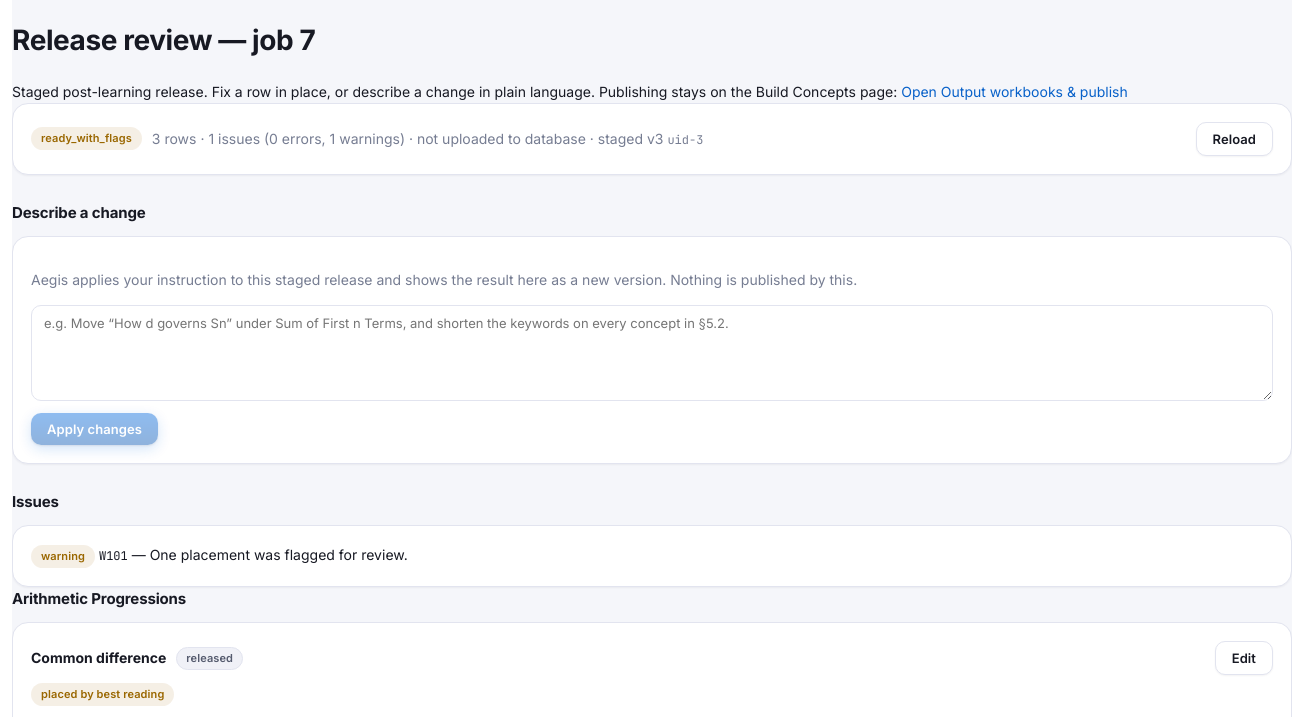
Scenario: a stale edit (409) surfaces the reload message and keeps the form open
Click the button with test id "edit-concept": (1244, 658) [1215,641,1273,675]
(page scrolled)
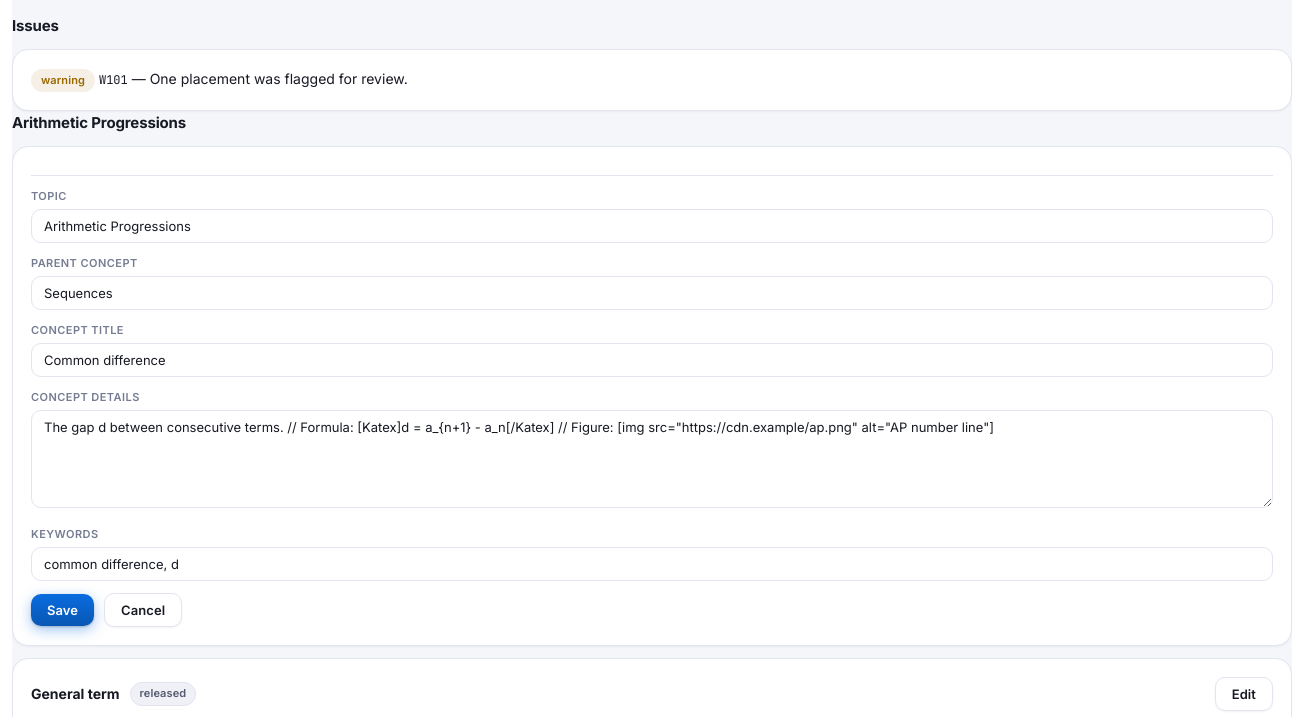
Replace the text in the field with test id "edit-field-concept_title" with "Renamed while someone else was editing": (652, 360) [31,343,1273,377]
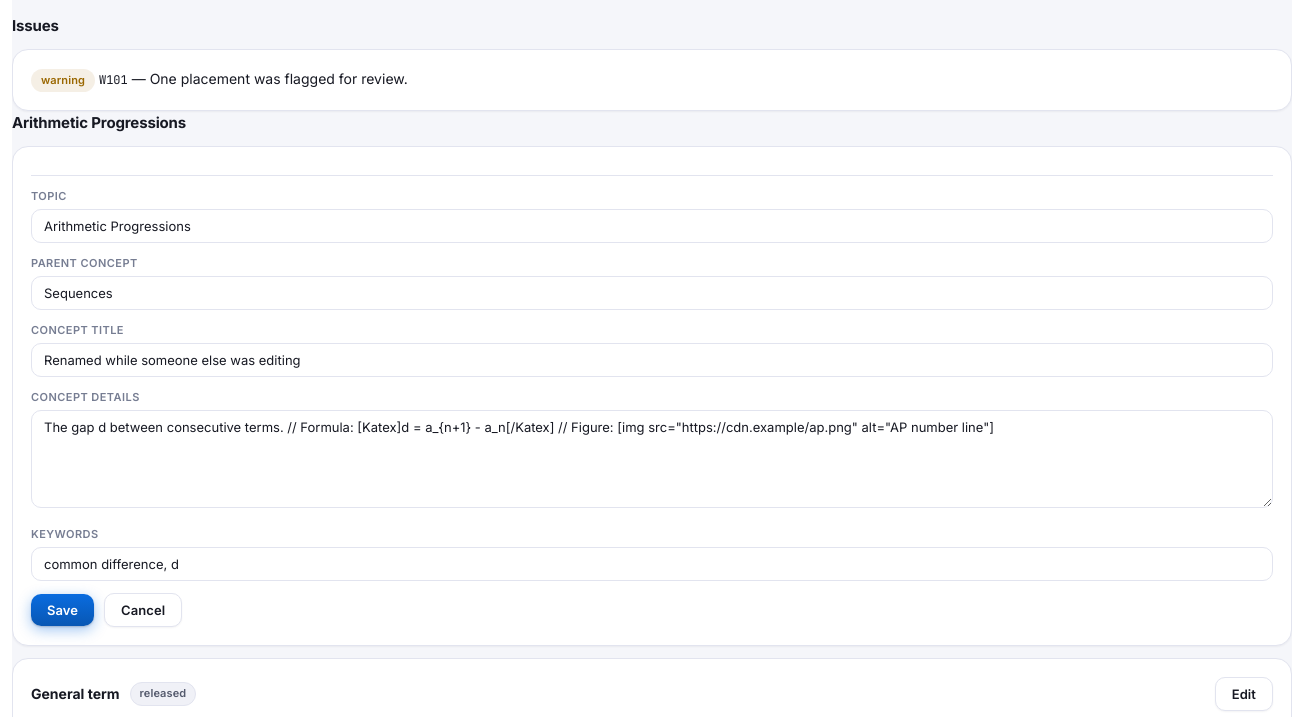
Click the button with test id "save-edit": (62, 610) [31,594,94,626]
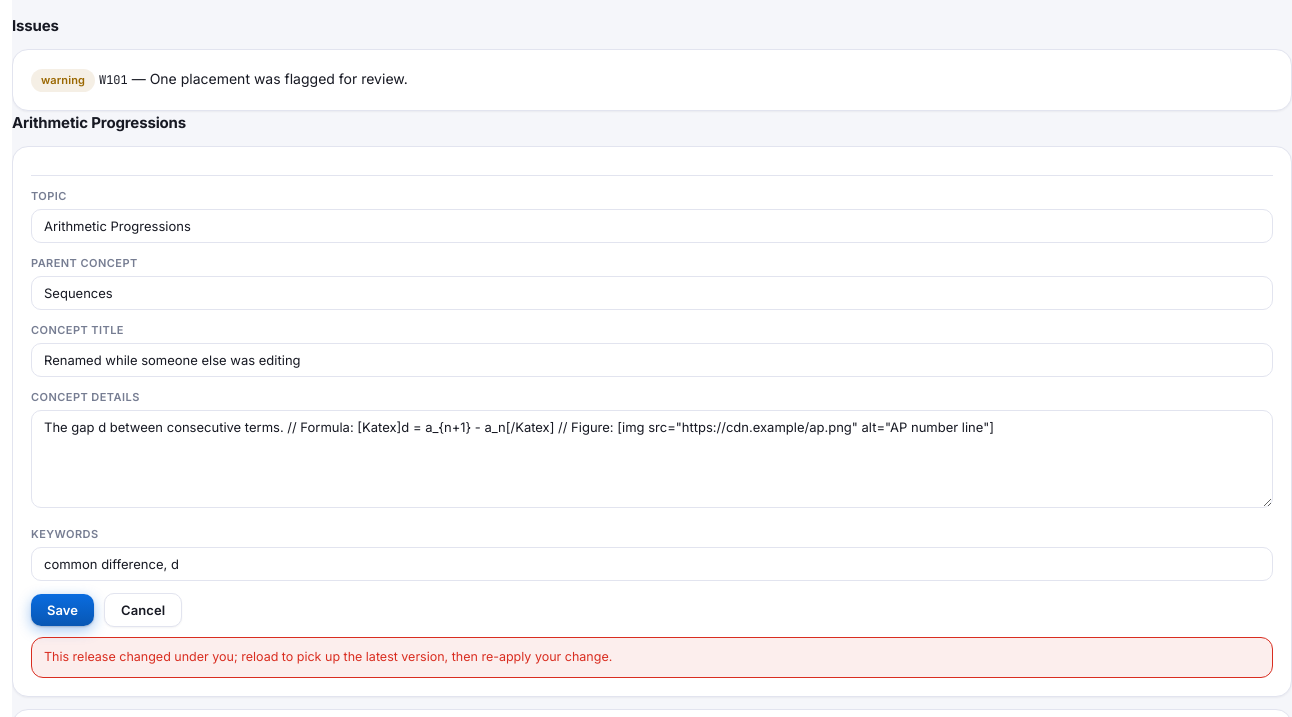
Now the button with test id "save-edit" is shown, box [31,594,94,626]
Now the text "changed under you" shows "reload", box [44,649,612,664]
